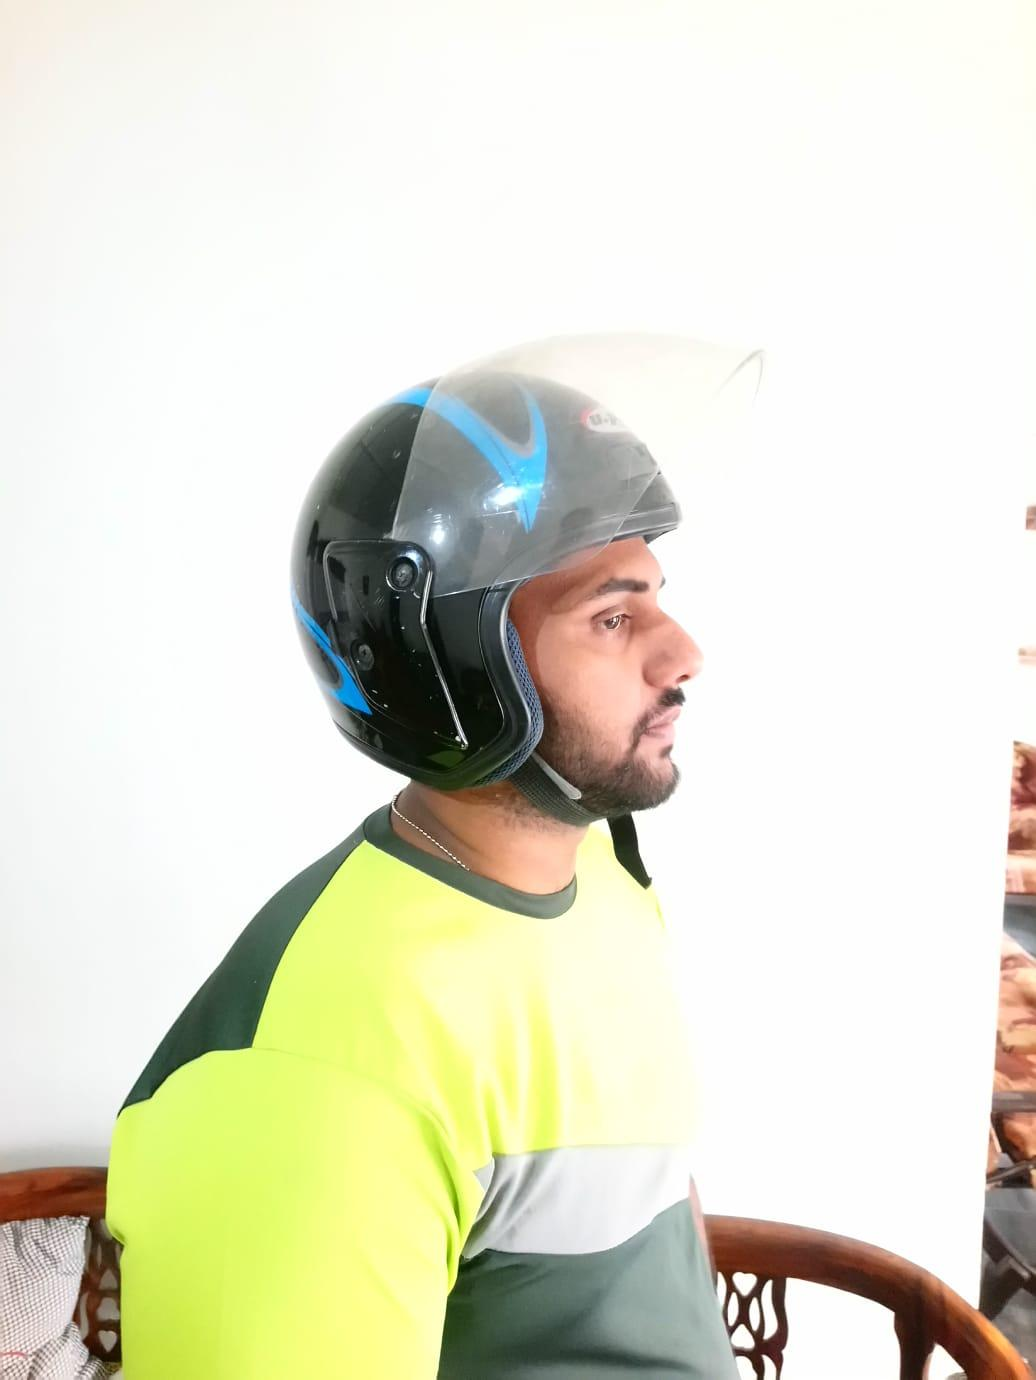helmet: (287, 323, 767, 799)
